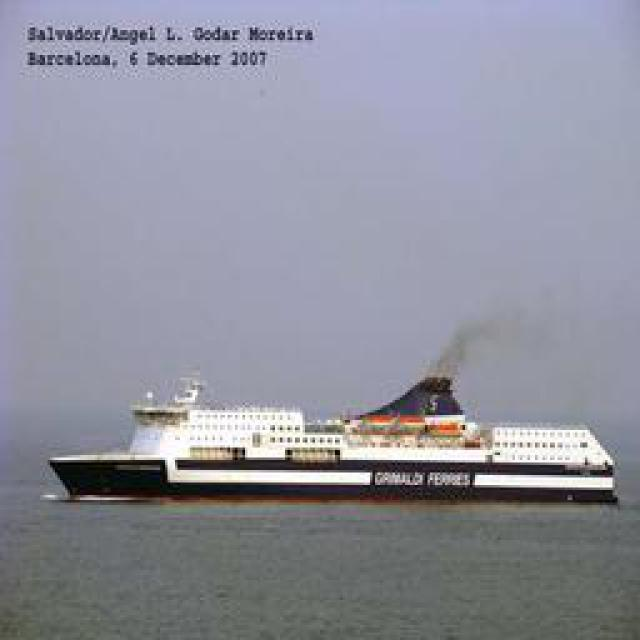Ship: (50, 389, 618, 502)
